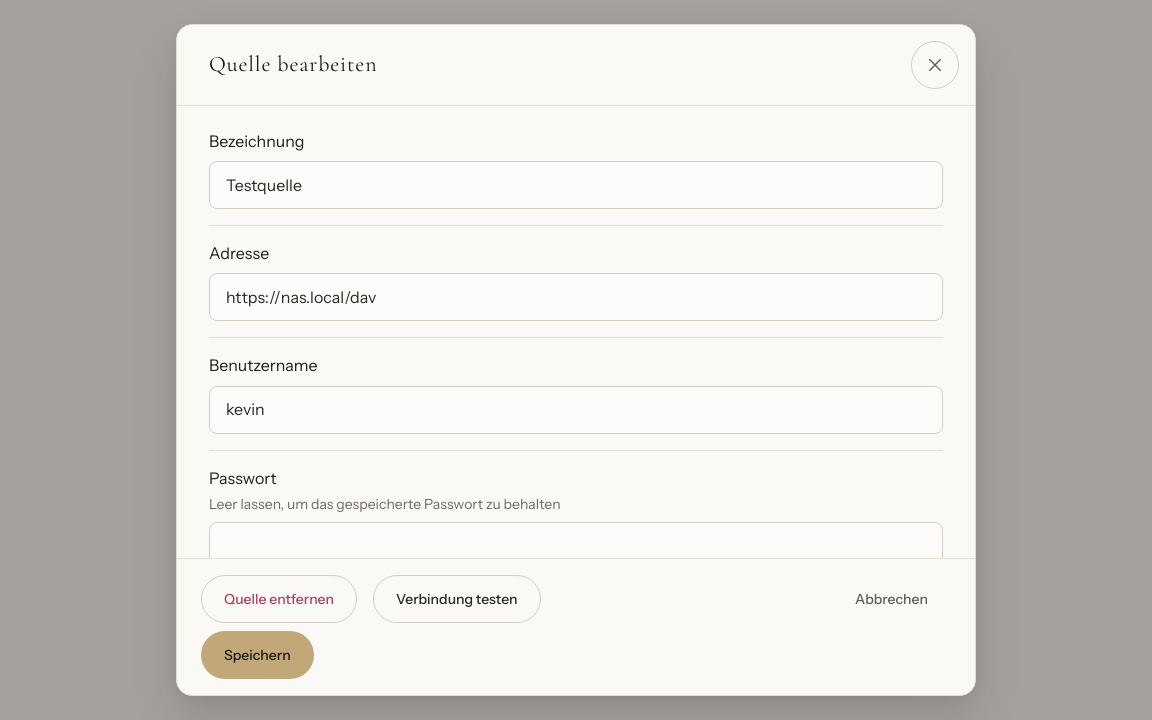
Test case: SourceDialog — Felder je Quellenart › bleibt bei anderen Quellen bei der schlichten Meldung
This screenshot has width=1152, height=720.
Click the button "Verbindung testen" at (457, 599), box [373,575,540,623]
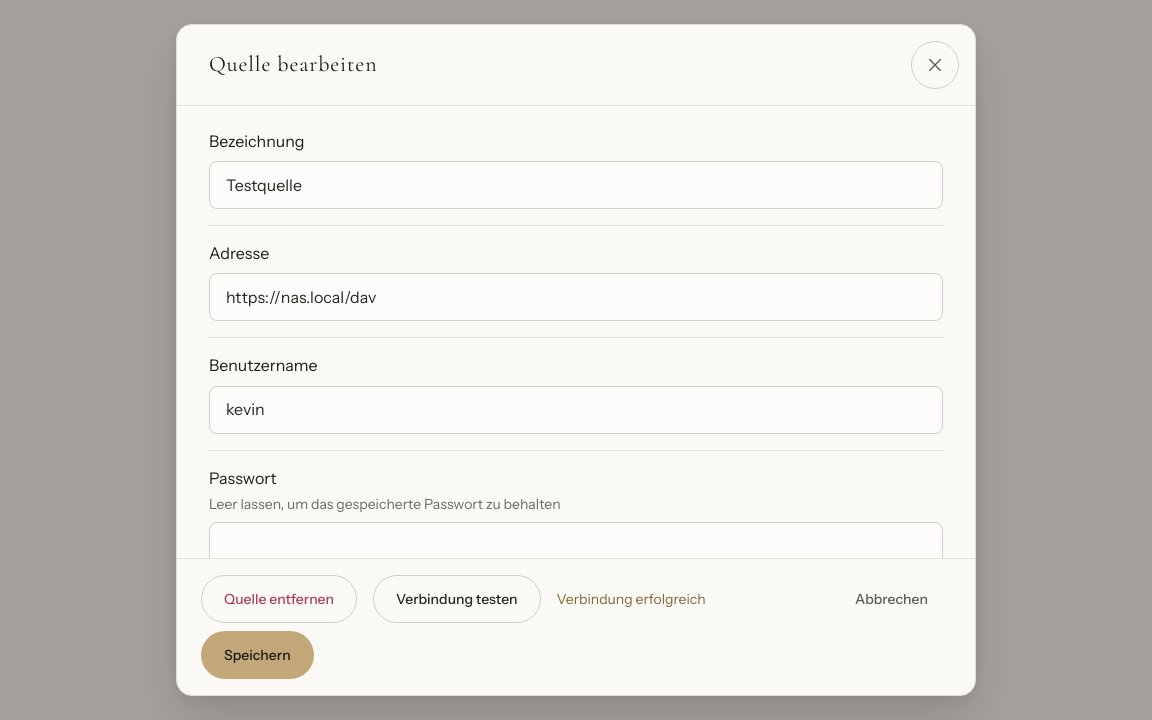
Now the element with class "result" reads "Verbindung erfolgreich", box [557,590,706,608]
